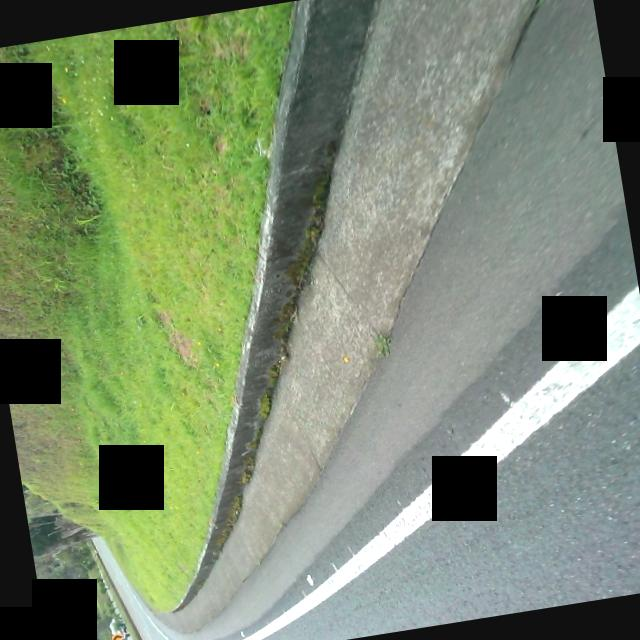DITCH: (21, 0, 640, 640), (15, 0, 640, 581)
